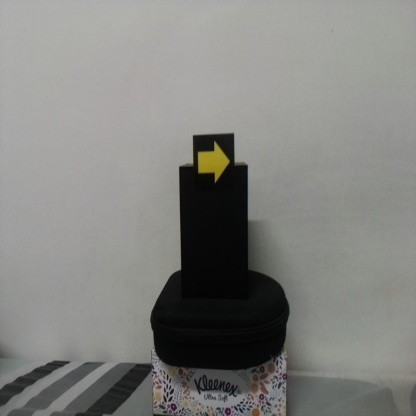id_3: (193, 135, 234, 191)
